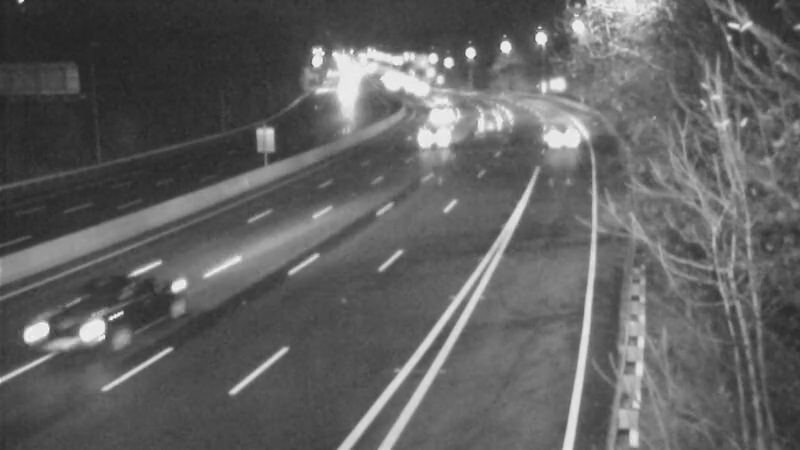vehicle: (14, 272, 124, 382), (394, 65, 444, 115), (406, 78, 456, 128), (415, 86, 465, 136), (461, 95, 511, 145), (532, 111, 582, 161), (405, 119, 455, 169)
